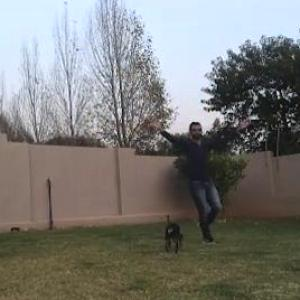takeoff: (148, 118, 246, 240)
